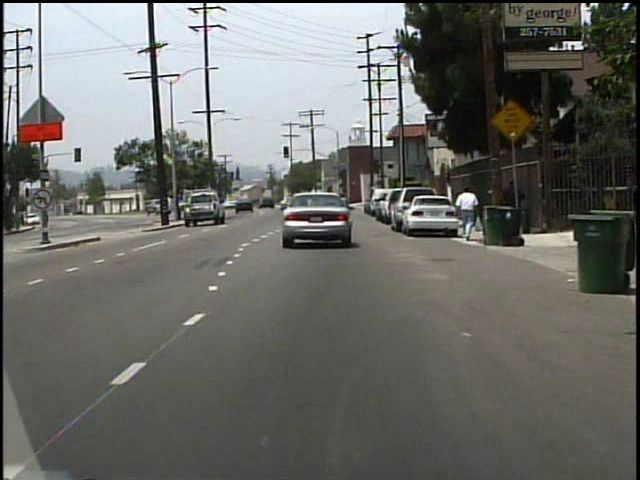person: (453, 185, 480, 243)
